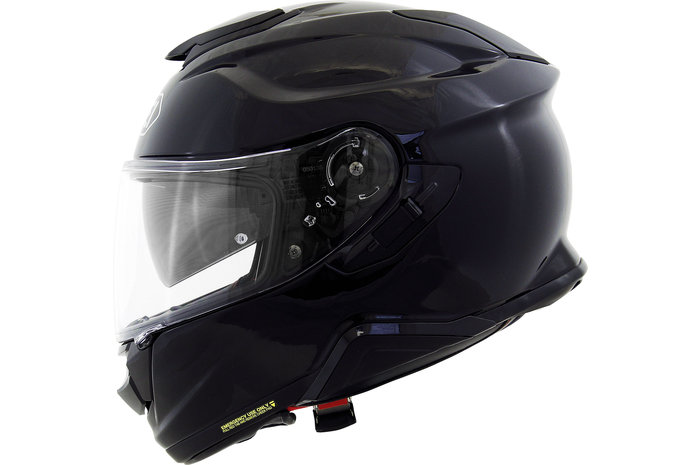with_helmet: (108, 3, 589, 465)
